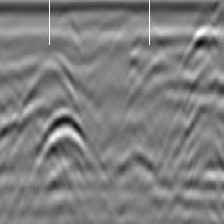Utility: (181, 22, 224, 104), (34, 106, 86, 171), (23, 49, 79, 106)
